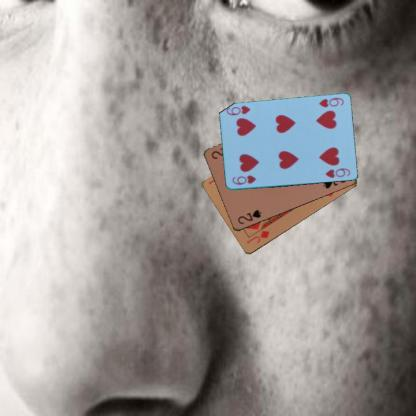2s: (235, 208, 262, 226)
6h: (316, 95, 345, 109), (229, 173, 257, 186)
Jd: (244, 228, 271, 246)
